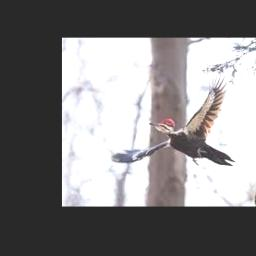Woodpecker: (111, 73, 235, 166)
